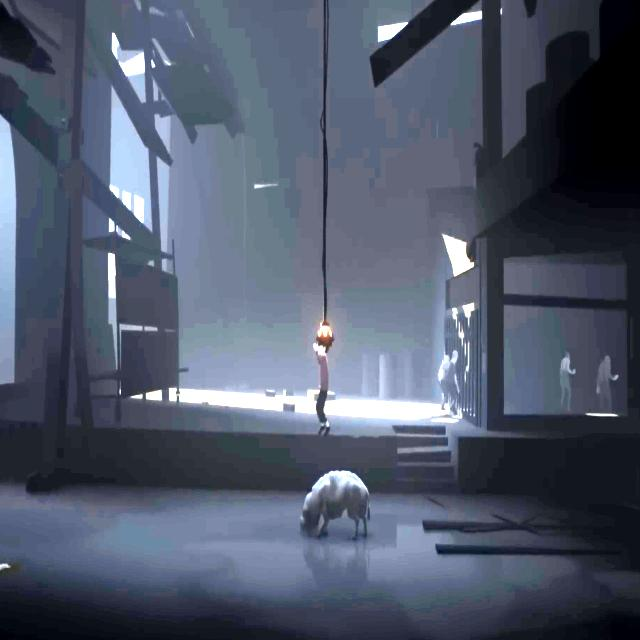boy: (314, 343, 332, 438)
interactible: (316, 326, 334, 341)
zombie: (597, 356, 618, 413), (445, 351, 460, 416), (560, 353, 575, 411), (438, 355, 448, 410)
